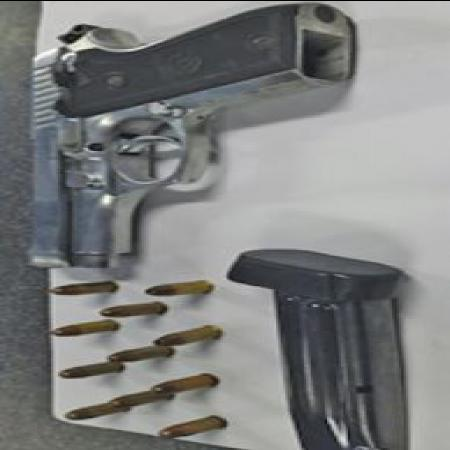Pistol: (21, 4, 357, 276)
